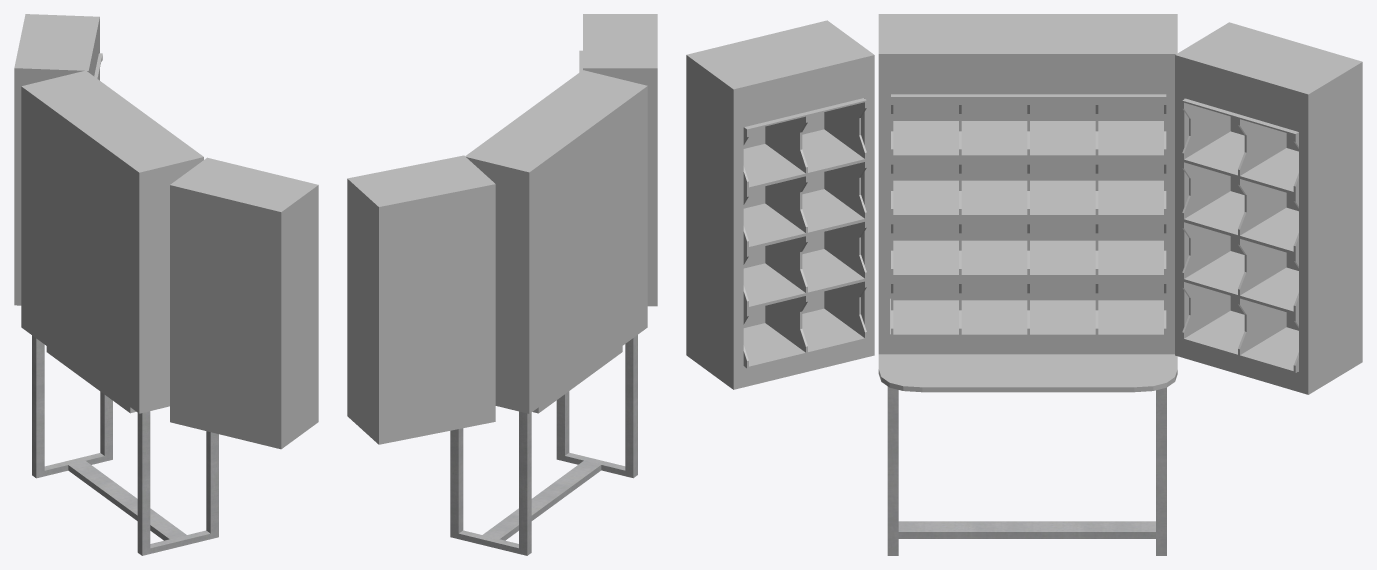
File: closet_letters.FBX
The picture shows the model from 3 angles, left to right: view 1: azimuth 30°, elevation 25°; view 2: azimuth 150°, elevation 25°; view 3: azimuth 270°, elevation 25°; orthographic projection. The views are drawn at different scales.
Parts seen in each view (by area): view 1: closer_letters; view 2: closer_letters; view 3: closer_letters.
Part boxes in pixels (box(x1,y1,x2,y2)): closer_letters: box(14, 14, 318, 555); closer_letters: box(347, 14, 657, 555); closer_letters: box(686, 14, 1362, 555).
Size of the model in its own units: 0.9566 by 2.72 by 3.4.
